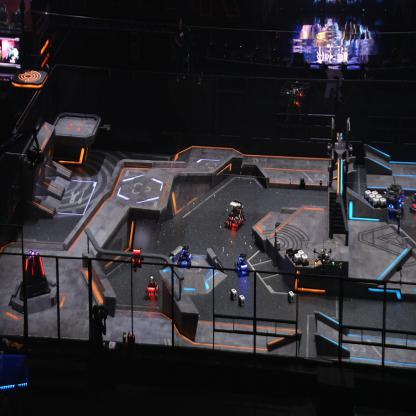car: (383, 182, 405, 218), (225, 199, 245, 230), (144, 274, 160, 300), (177, 245, 193, 270), (235, 252, 250, 277), (408, 190, 416, 216)
